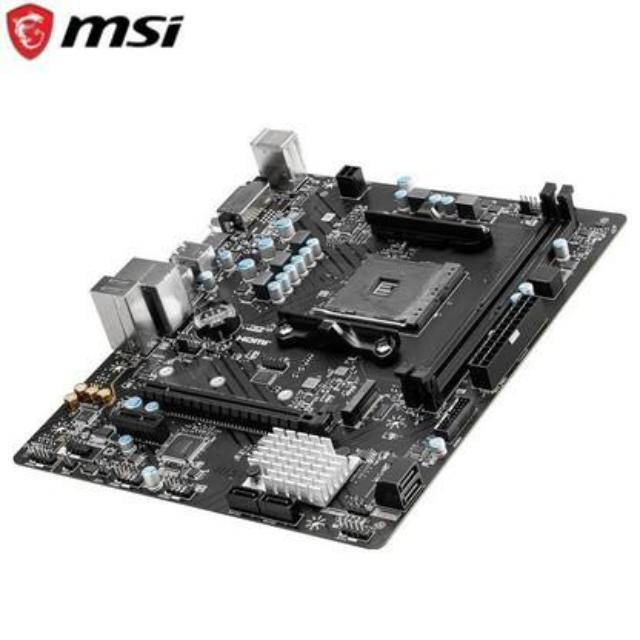Mainboard: (11, 122, 636, 553)
